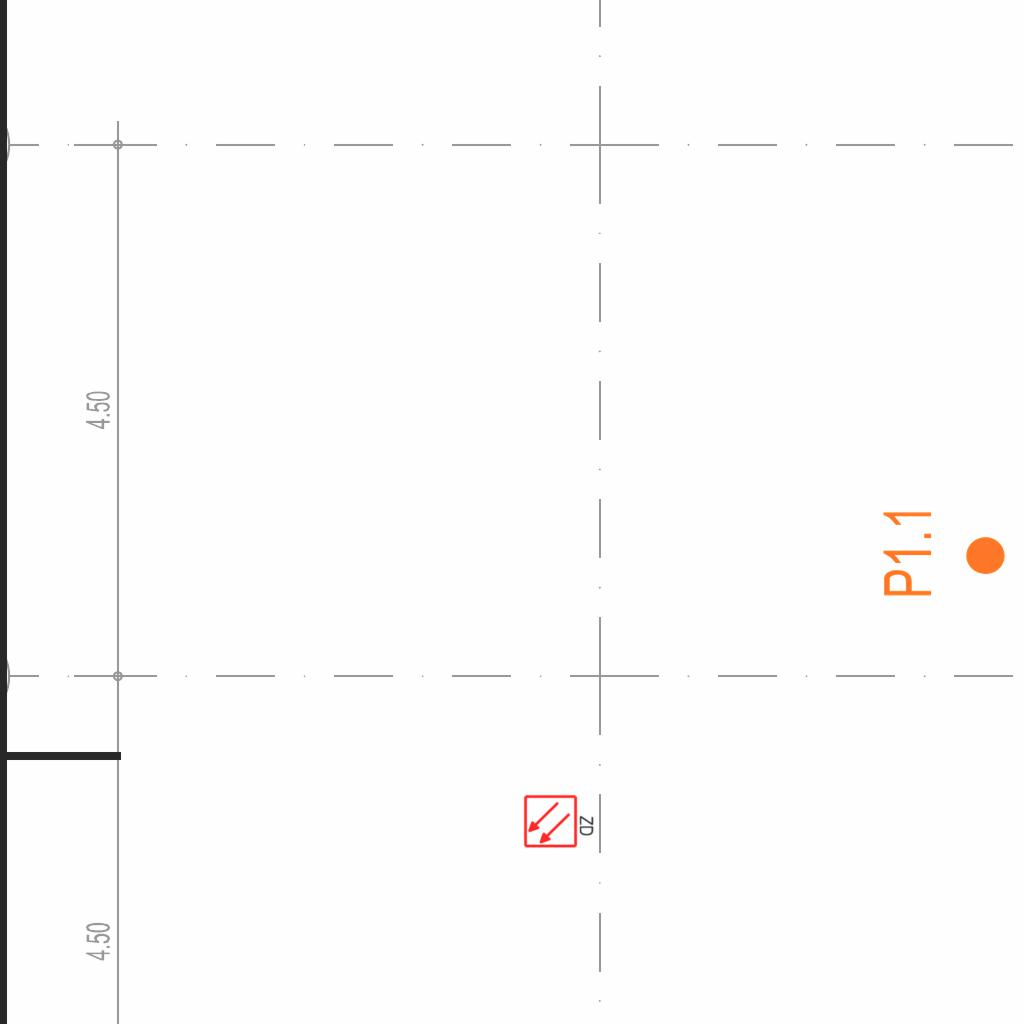Downlight_LED_Einbauleuchten_Flur: (880, 506, 1008, 599)
ZD_Melder_in_Zwischendecke_mit_Revisionsoeffnung_mind_40_x_40_cm: (523, 792, 597, 849)
